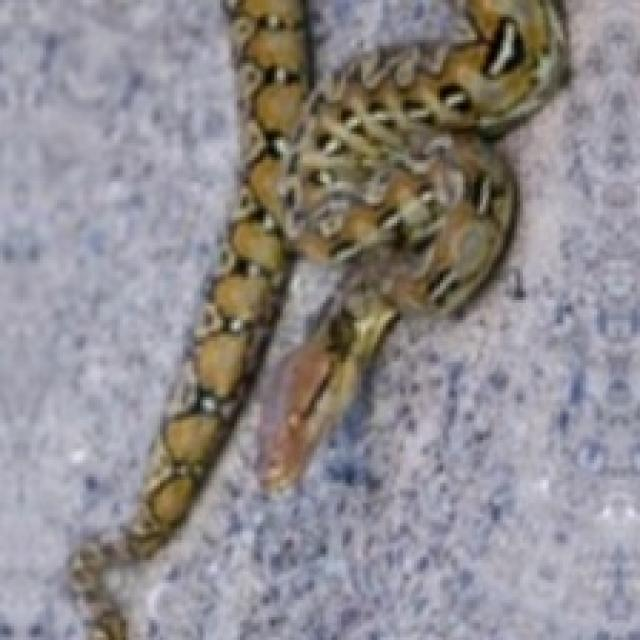reticulated python: (69, 0, 566, 637)
